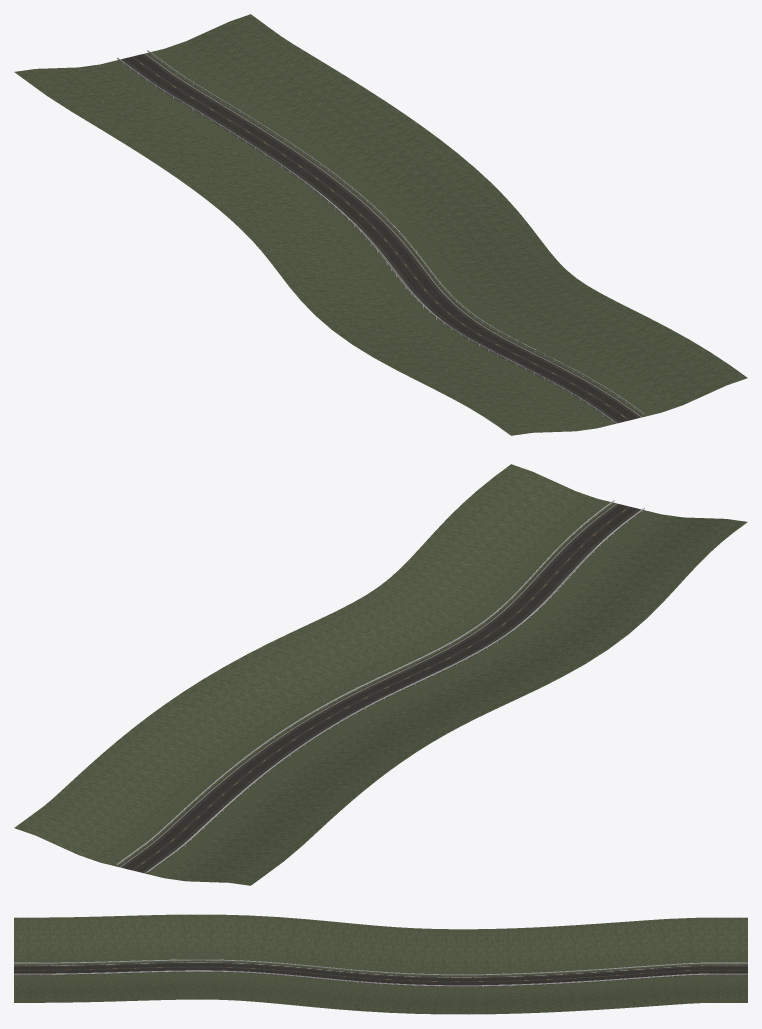
3 renders of one model, top to bottom at view 1: azimuth 30°, elevation 25°; view 2: azimuth 150°, elevation 25°; view 3: azimuth 270°, elevation 25°, orthographic. The views are drawn at different scales.
Visible parts, largest first — view 1: Grass, HighWay, GuardRail; view 2: Grass, HighWay, GuardRail; view 3: Grass, HighWay, GuardRail.
Part boxes in pixels (x1,y1,x2,y2): Grass: (14,14,747,435); HighWay: (118,53,643,423); GuardRail: (117,50,644,422); Grass: (14,464,747,885); HighWay: (118,503,643,873); GuardRail: (117,500,644,872); Grass: (14,914,747,1014); HighWay: (14,961,747,986); GuardRail: (14,959,747,987).
Size of what is drawn, in the model's own units: 128 by 9.73 by 400.
